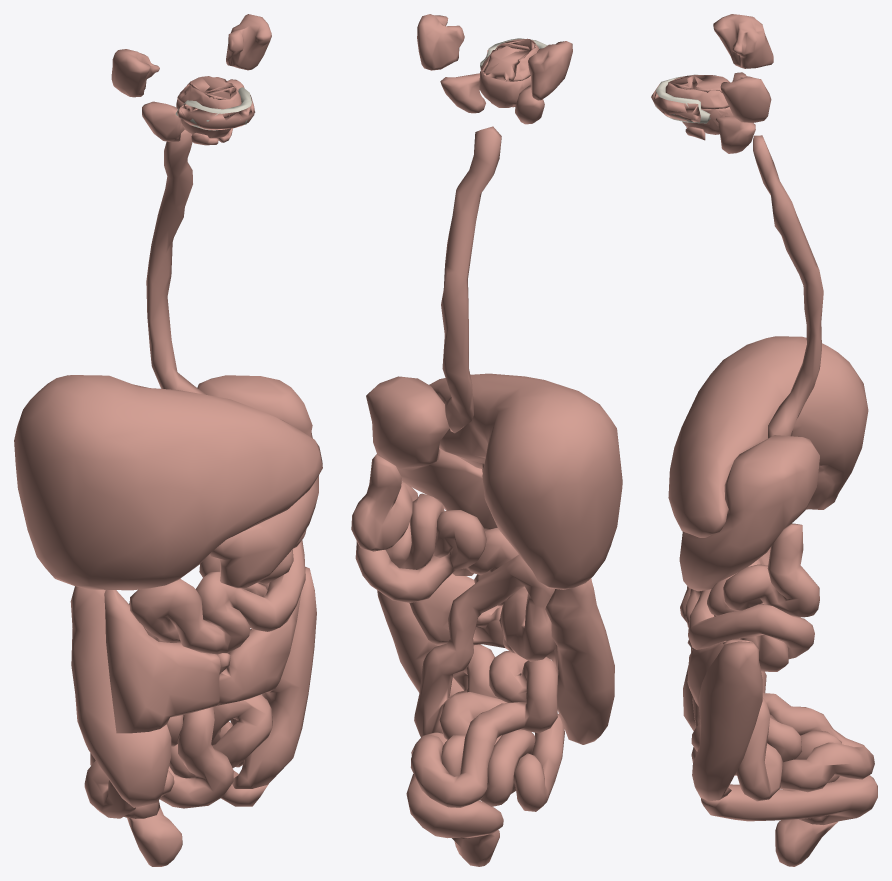
The model's file is icrp_adult_female.digestive.LOD2.glb.
3 views of the same model, side by side, from view 1: azimuth 30°, elevation 25°; view 2: azimuth 150°, elevation 25°; view 3: azimuth 270°, elevation 25° (orthographic). The views are drawn at different scales.
Parts seen in each view (by area): view 1: ICRP.ADULT.FEMALE.DIGESTIVE.LIVER, ICRP.ADULT.FEMALE.DIGESTIVE.SMALL_INTESTINE_WALL, ICRP.ADULT.FEMALE.DIGESTIVE.TRANSVERSE_COLON_WALL.R, ICRP.ADULT.FEMALE.DIGESTIVE.ASCENDING_COLON_WALL, ICRP.ADULT.FEMALE.DIGESTIVE.STOMACH_WALL, ICRP.ADULT.FEMALE.DIGESTIVE.OESOPHAGUS_WALL, ICRP.ADULT.FEMALE.DIGESTIVE.DESCENDING_COLON_WALL, ICRP.ADULT.FEMALE.DIGESTIVE.TRANSVERSE_COLON_WALL.L, ICRP.ADULT.FEMALE.DIGESTIVE.SALIVARY_GLANDS.R, ICRP.ADULT.FEMALE.DIGESTIVE.SALIVARY_GLANDS.L, ICRP.ADULT.FEMALE.DIGESTIVE.RECTUM_WALL, ICRP.ADULT.FEMALE.DIGESTIVE.ORAL_MUCOSA_LIP_AND_CHEEKS (+4 smaller); view 2: ICRP.ADULT.FEMALE.DIGESTIVE.SMALL_INTESTINE_WALL, ICRP.ADULT.FEMALE.DIGESTIVE.LIVER, ICRP.ADULT.FEMALE.DIGESTIVE.STOMACH_WALL, ICRP.ADULT.FEMALE.DIGESTIVE.ASCENDING_COLON_WALL, ICRP.ADULT.FEMALE.DIGESTIVE.OESOPHAGUS_WALL, ICRP.ADULT.FEMALE.DIGESTIVE.SALIVARY_GLANDS.L, ICRP.ADULT.FEMALE.DIGESTIVE.SIGMOID_COLON_WALL, ICRP.ADULT.FEMALE.DIGESTIVE.TRANSVERSE_COLON_WALL.L, ICRP.ADULT.FEMALE.DIGESTIVE.DESCENDING_COLON_WALL, ICRP.ADULT.FEMALE.DIGESTIVE.SALIVARY_GLANDS.R, ICRP.ADULT.FEMALE.DIGESTIVE.ORAL_MUCOSA_MOUTH_FLOOR, ICRP.ADULT.FEMALE.DIGESTIVE.TONGUE_LOWER (+1 smaller); view 3: ICRP.ADULT.FEMALE.DIGESTIVE.LIVER, ICRP.ADULT.FEMALE.DIGESTIVE.SMALL_INTESTINE_WALL, ICRP.ADULT.FEMALE.DIGESTIVE.STOMACH_WALL, ICRP.ADULT.FEMALE.DIGESTIVE.DESCENDING_COLON_WALL, ICRP.ADULT.FEMALE.DIGESTIVE.OESOPHAGUS_WALL, ICRP.ADULT.FEMALE.DIGESTIVE.SIGMOID_COLON_WALL, ICRP.ADULT.FEMALE.DIGESTIVE.SALIVARY_GLANDS.L, ICRP.ADULT.FEMALE.DIGESTIVE.SALIVARY_GLANDS.R, ICRP.ADULT.FEMALE.DIGESTIVE.RECTUM_WALL, ICRP.ADULT.FEMALE.DIGESTIVE.TRANSVERSE_COLON_WALL.L, ICRP.ADULT.FEMALE.DIGESTIVE.TONGUE_UPPER_FOOD, ICRP.ADULT.FEMALE.DIGESTIVE.ORAL_MUCOSA_LIP_AND_CHEEKS (+4 smaller).
Boxes of the visible parts, bbox=[...] form: ICRP.ADULT.FEMALE.DIGESTIVE.LIVER: bbox=[14, 375, 322, 590]; ICRP.ADULT.FEMALE.DIGESTIVE.SMALL_INTESTINE_WALL: bbox=[84, 529, 306, 818]; ICRP.ADULT.FEMALE.DIGESTIVE.TRANSVERSE_COLON_WALL.R: bbox=[104, 590, 220, 733]; ICRP.ADULT.FEMALE.DIGESTIVE.ASCENDING_COLON_WALL: bbox=[70, 586, 171, 807]; ICRP.ADULT.FEMALE.DIGESTIVE.STOMACH_WALL: bbox=[197, 375, 318, 588]; ICRP.ADULT.FEMALE.DIGESTIVE.OESOPHAGUS_WALL: bbox=[146, 130, 206, 394]; ICRP.ADULT.FEMALE.DIGESTIVE.DESCENDING_COLON_WALL: bbox=[232, 567, 316, 788]; ICRP.ADULT.FEMALE.DIGESTIVE.TRANSVERSE_COLON_WALL.L: bbox=[217, 593, 301, 705]; ICRP.ADULT.FEMALE.DIGESTIVE.SALIVARY_GLANDS.R: bbox=[111, 49, 218, 145]; ICRP.ADULT.FEMALE.DIGESTIVE.SALIVARY_GLANDS.L: bbox=[217, 14, 271, 142]; ICRP.ADULT.FEMALE.DIGESTIVE.RECTUM_WALL: bbox=[124, 807, 182, 866]; ICRP.ADULT.FEMALE.DIGESTIVE.ORAL_MUCOSA_LIP_AND_CHEEKS: bbox=[177, 95, 255, 130]; ICRP.ADULT.FEMALE.DIGESTIVE.SMALL_INTESTINE_WALL: bbox=[351, 454, 564, 811]; ICRP.ADULT.FEMALE.DIGESTIVE.LIVER: bbox=[429, 373, 622, 589]; ICRP.ADULT.FEMALE.DIGESTIVE.STOMACH_WALL: bbox=[366, 376, 497, 530]; ICRP.ADULT.FEMALE.DIGESTIVE.ASCENDING_COLON_WALL: bbox=[545, 578, 614, 744]; ICRP.ADULT.FEMALE.DIGESTIVE.OESOPHAGUS_WALL: bbox=[441, 126, 501, 433]; ICRP.ADULT.FEMALE.DIGESTIVE.SALIVARY_GLANDS.L: bbox=[417, 14, 485, 113]; ICRP.ADULT.FEMALE.DIGESTIVE.SIGMOID_COLON_WALL: bbox=[406, 774, 503, 838]; ICRP.ADULT.FEMALE.DIGESTIVE.TRANSVERSE_COLON_WALL.L: bbox=[409, 573, 504, 647]; ICRP.ADULT.FEMALE.DIGESTIVE.DESCENDING_COLON_WALL: bbox=[377, 590, 463, 696]; ICRP.ADULT.FEMALE.DIGESTIVE.SALIVARY_GLANDS.R: bbox=[515, 41, 572, 124]; ICRP.ADULT.FEMALE.DIGESTIVE.ORAL_MUCOSA_MOUTH_FLOOR: bbox=[482, 39, 535, 81]; ICRP.ADULT.FEMALE.DIGESTIVE.TONGUE_LOWER: bbox=[478, 71, 531, 107]; ICRP.ADULT.FEMALE.DIGESTIVE.LIVER: bbox=[668, 336, 868, 537]; ICRP.ADULT.FEMALE.DIGESTIVE.SMALL_INTESTINE_WALL: bbox=[680, 523, 874, 801]; ICRP.ADULT.FEMALE.DIGESTIVE.STOMACH_WALL: bbox=[679, 435, 819, 591]; ICRP.ADULT.FEMALE.DIGESTIVE.DESCENDING_COLON_WALL: bbox=[692, 641, 762, 801]; ICRP.ADULT.FEMALE.DIGESTIVE.OESOPHAGUS_WALL: bbox=[753, 135, 823, 438]; ICRP.ADULT.FEMALE.DIGESTIVE.SIGMOID_COLON_WALL: bbox=[701, 775, 877, 824]; ICRP.ADULT.FEMALE.DIGESTIVE.SALIVARY_GLANDS.L: bbox=[685, 72, 771, 153]; ICRP.ADULT.FEMALE.DIGESTIVE.SALIVARY_GLANDS.R: bbox=[686, 14, 773, 127]; ICRP.ADULT.FEMALE.DIGESTIVE.RECTUM_WALL: bbox=[775, 819, 837, 866]; ICRP.ADULT.FEMALE.DIGESTIVE.TRANSVERSE_COLON_WALL.L: bbox=[687, 639, 752, 706]; ICRP.ADULT.FEMALE.DIGESTIVE.TONGUE_UPPER_FOOD: bbox=[665, 75, 729, 109]; ICRP.ADULT.FEMALE.DIGESTIVE.ORAL_MUCOSA_LIP_AND_CHEEKS: bbox=[651, 84, 700, 122].
Bounding box in the file's own units: 0.2307 × 0.7096 × 0.1774.
